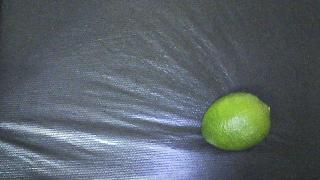LOCAL: (201, 92, 271, 150)
